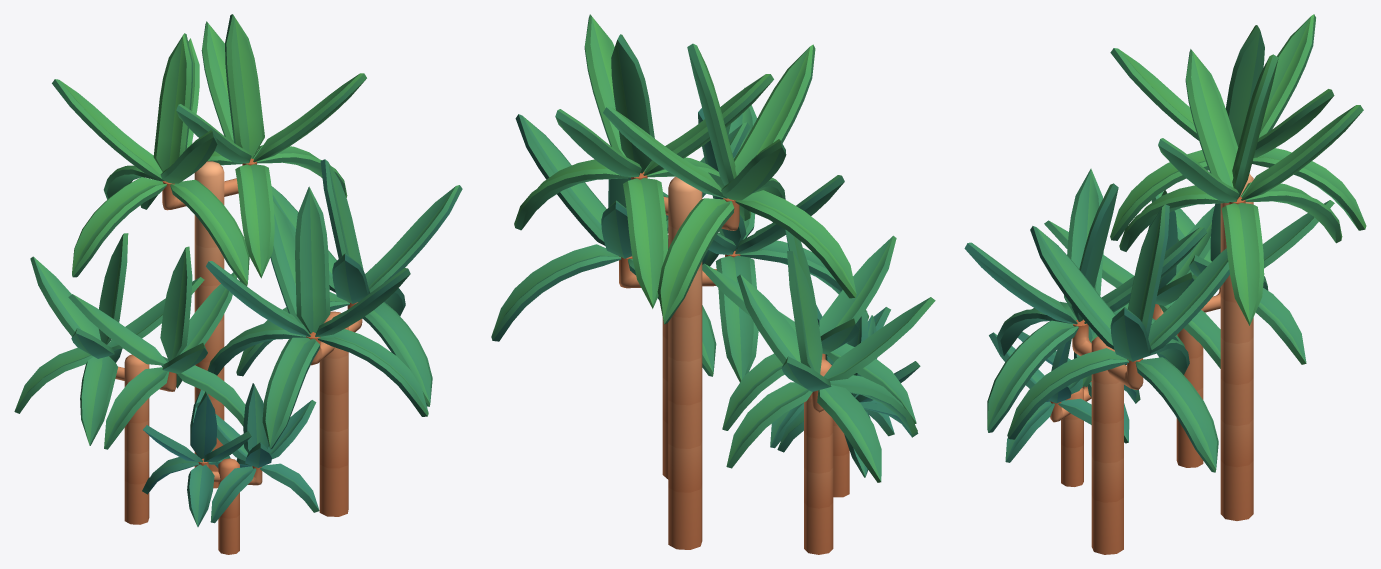
The model's file is house_plants_plants_large_yucca_flcc5m8pps.glb.
3 views of the same model, side by side, from view 1: azimuth 30°, elevation 25°; view 2: azimuth 150°, elevation 25°; view 3: azimuth 270°, elevation 25° (orthographic). The views are drawn at different scales.
Parts seen in each view (by area): view 1: yucca_plant_large; view 2: yucca_plant_large; view 3: yucca_plant_large.
Part boxes in pixels (x1,y1,x2,y2): yucca_plant_large: (14,14,462,554); yucca_plant_large: (491,14,935,554); yucca_plant_large: (964,14,1366,554).
Size of the model in its own units: 2.03 by 2.26 by 1.71.
Materials: 1 (1 with a texture image).
